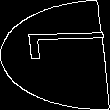L_E: (5, 38, 105, 72)
